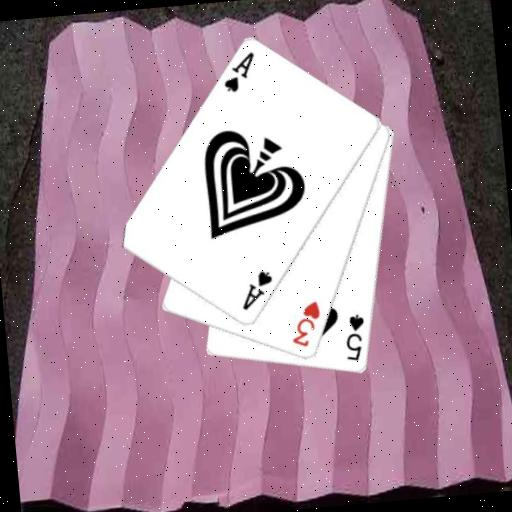3H: (286, 298, 325, 351)
5S: (341, 311, 370, 364)
AS: (219, 49, 260, 96), (236, 267, 277, 313)
